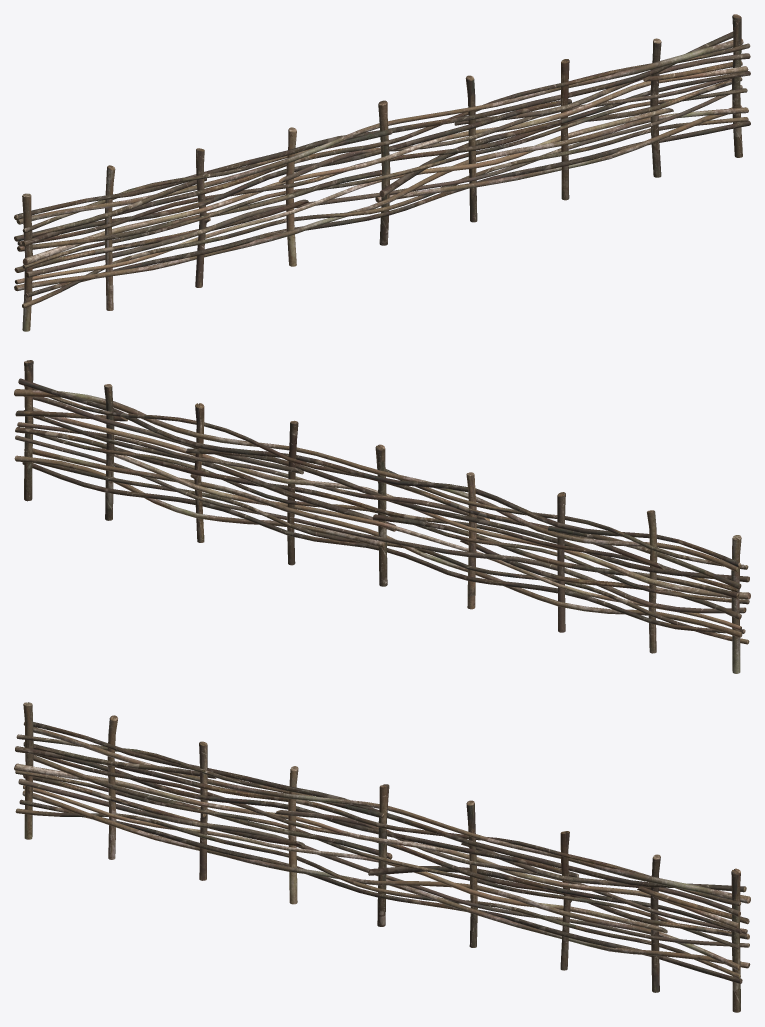
The picture shows the model from 3 angles, top to bottom: view 1: azimuth 30°, elevation 25°; view 2: azimuth 150°, elevation 25°; view 3: azimuth 330°, elevation 25°; orthographic projection.
Visible parts, largest first — view 1: SM_Wicker_Fence_01v2_8x8_LOD0; view 2: SM_Wicker_Fence_01v2_8x8_LOD0; view 3: SM_Wicker_Fence_01v2_8x8_LOD0.
Part boxes in pixels (<box>): SM_Wicker_Fence_01v2_8x8_LOD0: <box>14,14,750,331</box>; SM_Wicker_Fence_01v2_8x8_LOD0: <box>14,360,750,673</box>; SM_Wicker_Fence_01v2_8x8_LOD0: <box>14,702,750,1012</box>.
Bounding box in the file's own units: 8 × 1.51 × 0.2836.
1 material, 1 textured.
